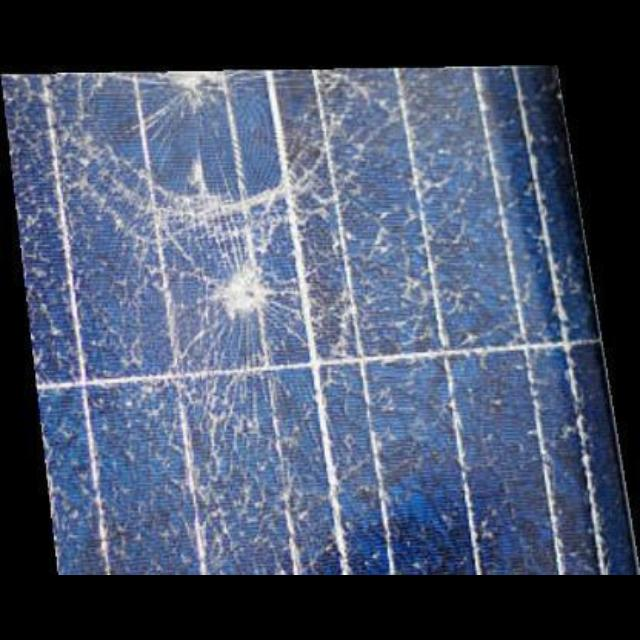Photovoltaic-Panel: (1, 65, 640, 576)
